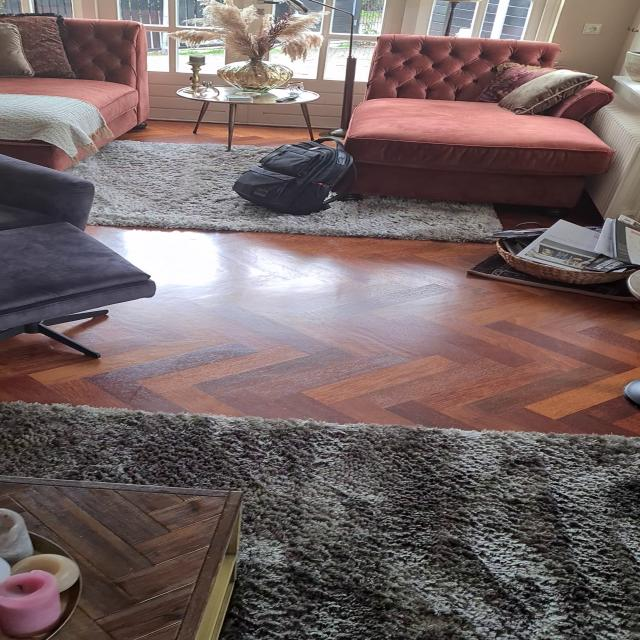backpack: (226, 137, 361, 216)
